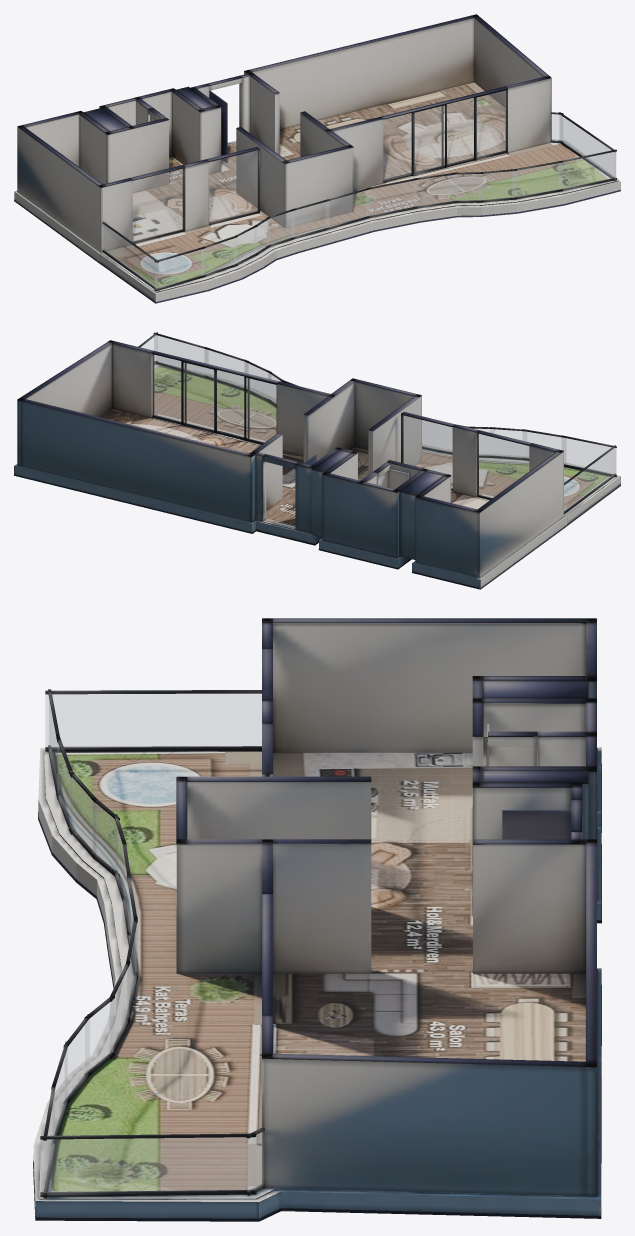
3 renders of one model, top to bottom at view 1: azimuth 30°, elevation 25°; view 2: azimuth 150°, elevation 25°; view 3: azimuth 270°, elevation 25°, orthographic. The views are drawn at different scales.
Visible parts, largest first — view 1: plan, glass2_m, glass0_m, glass1_m, railg2_m, railg15_m, railg1_m, railg7_m, railg3_m, railg14_m, railg8_m, railg6_m (+7 smaller); view 2: plan, glass2_m, glass0_m, glass1_m, railg14_m, railg15_m, railg2_m, railg3_m, railg12_m, railg13_m, railg4_m, railg9_m; view 3: plan, railg1_m, railg15_m, railg5_m, railg12_m, railg11_m, railg4_m, railg6_m, railg0_m.
Boxes of the visible parts, <box> form: plan: <box>14,14,620,303</box>; glass2_m: <box>383,91,505,180</box>; glass0_m: <box>133,169,183,241</box>; glass1_m: <box>209,150,257,222</box>; railg2_m: <box>558,152,616,189</box>; railg15_m: <box>103,225,158,288</box>; railg1_m: <box>560,115,615,178</box>; railg7_m: <box>366,180,417,215</box>; railg3_m: <box>512,163,562,197</box>; railg14_m: <box>155,249,204,288</box>; railg8_m: <box>325,189,370,227</box>; railg6_m: <box>413,174,457,206</box>; plan: <box>14,332,620,589</box>; glass2_m: <box>153,354,276,442</box>; glass0_m: <box>478,434,528,497</box>; glass1_m: <box>403,415,452,488</box>; railg14_m: <box>562,438,616,474</box>; railg15_m: <box>564,448,614,511</box>; railg2_m: <box>154,335,208,374</box>; railg3_m: <box>204,349,247,387</box>; railg12_m: <box>490,429,526,457</box>; railg13_m: <box>523,431,566,464</box>; railg4_m: <box>244,362,270,398</box>; railg9_m: <box>422,420,436,448</box>; plan: <box>33,618,601,1221</box>; railg1_m: <box>40,1137,255,1192</box>; railg15_m: <box>45,694,261,747</box>; railg5_m: <box>86,999,113,1073</box>; railg12_m: <box>70,776,96,855</box>; railg11_m: <box>92,801,117,873</box>; railg4_m: <box>65,1019,89,1100</box>; railg6_m: <box>110,967,128,1054</box>; railg0_m: <box>247,1132,262,1191</box>.
Size of the model in its own units: 17.02 by 2.62 by 8.99.
Materials: 2 (1 with a texture image).
